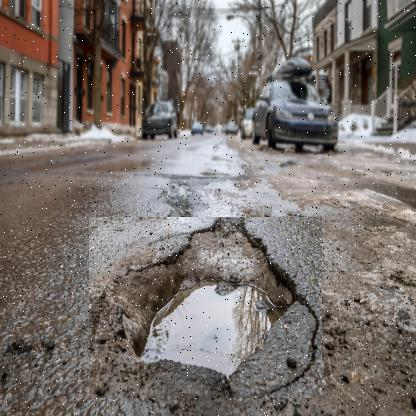pothole_water: (87, 218, 322, 400)
